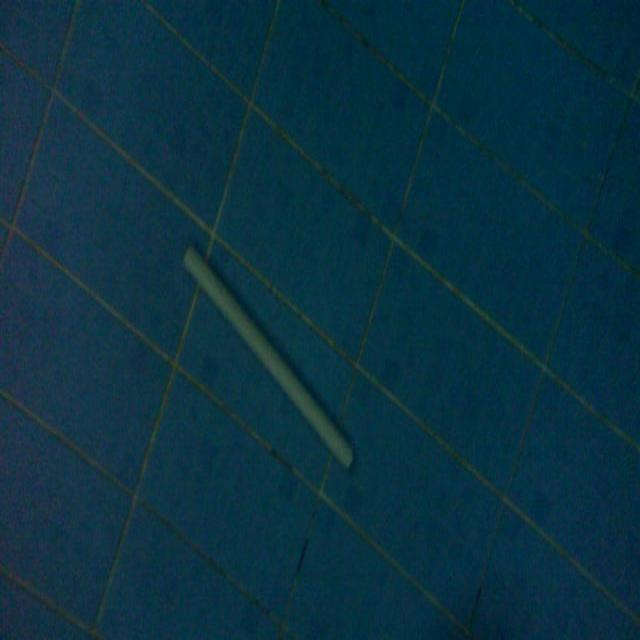Cube: (180, 238, 356, 473)
